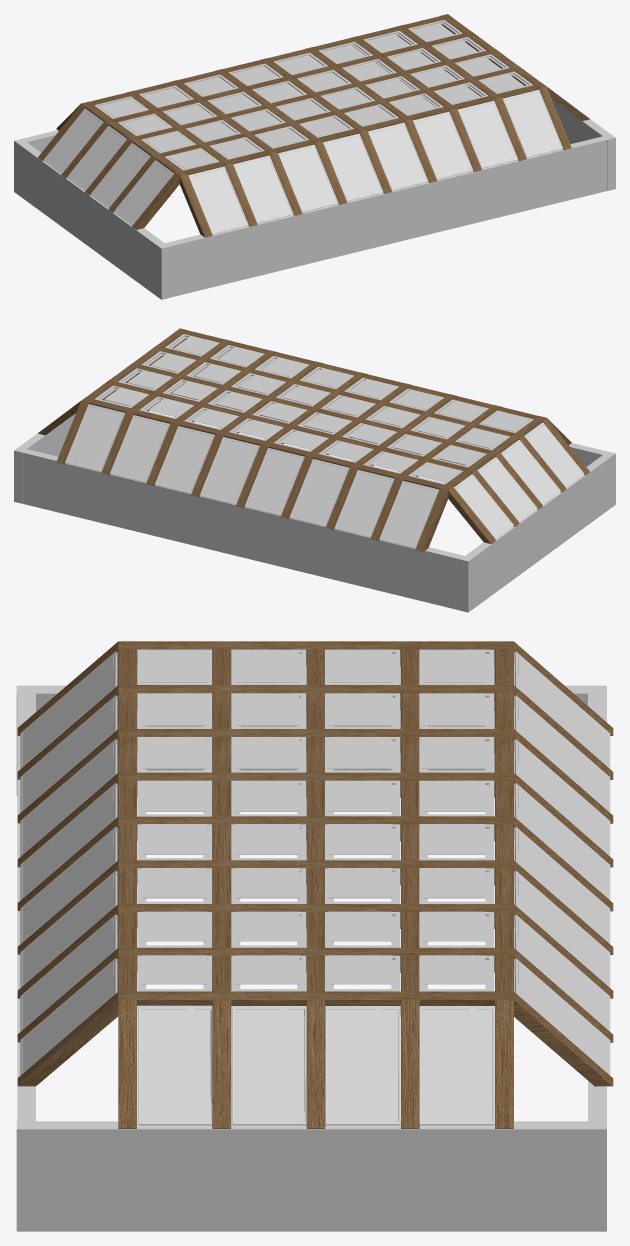
The model's file is roof_with_windows.fbx.
The picture shows the model from 3 angles, top to bottom: view 1: azimuth 30°, elevation 25°; view 2: azimuth 150°, elevation 25°; view 3: azimuth 270°, elevation 25°; orthographic projection. The views are drawn at different scales.
Visible parts, largest first — view 1: Cube, glas.005, glas, Cube.001, roof_structure1, Cube.023, windowframe2, glas.004, window.002, window.001, window_frame.003; view 2: Cube, glas.001, glas, Cube.001, roof_structure1, Cube.023, windowframe2, glas.004, window.004, window.001, window_frame.005; view 3: Cube.023, glas, Cube.001, roof_structure1, glas.002, glas.005, glas.001, windowframe2, window, window.004, window.002, Cube (+1 smaller).
Part boxes in pixels (left/top/right/bottom): Cube: left=15, top=130, right=613, bottom=297; glas.005: left=190, top=92, right=561, bottom=232; glas: left=99, top=23, right=524, bottom=168; Cube.001: left=56, top=14, right=571, bottom=237; roof_structure1: left=37, top=14, right=589, bottom=229; Cube.023: left=14, top=99, right=615, bottom=299; windowframe2: left=94, top=20, right=533, bottom=170; glas.004: left=45, top=110, right=171, bottom=223; window.002: left=188, top=90, right=562, bottom=234; window.001: left=44, top=109, right=173, bottom=224; window_frame.003: left=188, top=90, right=562, bottom=234; Cube: left=16, top=369, right=614, bottom=610; glas.001: left=66, top=406, right=437, bottom=546; glas: left=104, top=336, right=529, bottom=482; Cube.001: left=56, top=328, right=571, bottom=551; roof_structure1: left=38, top=328, right=589, bottom=543; Cube.023: left=14, top=365, right=615, bottom=612; windowframe2: left=94, top=334, right=533, bottom=484; glas.004: left=456, top=424, right=582, bottom=536; window.004: left=65, top=404, right=438, bottom=548; window.001: left=454, top=423, right=584, bottom=539; window_frame.005: left=65, top=463, right=415, bottom=548; Cube.023: left=16, top=685, right=606, bottom=1231; glas: left=142, top=652, right=485, bottom=984; Cube.001: left=17, top=641, right=613, bottom=1086; roof_structure1: left=118, top=649, right=513, bottom=1128; glas.002: left=140, top=1009, right=491, bottom=1121; glas.005: left=23, top=655, right=113, bottom=1072; glas.001: left=518, top=655, right=607, bottom=1072; windowframe2: left=137, top=649, right=494, bottom=991; window: left=138, top=1006, right=494, bottom=1125; window.004: left=514, top=651, right=610, bottom=1075; window.002: left=20, top=651, right=116, bottom=1075; Cube: left=17, top=687, right=606, bottom=1127.
Size of the model in its own units: 2228 by 444 by 1267.
